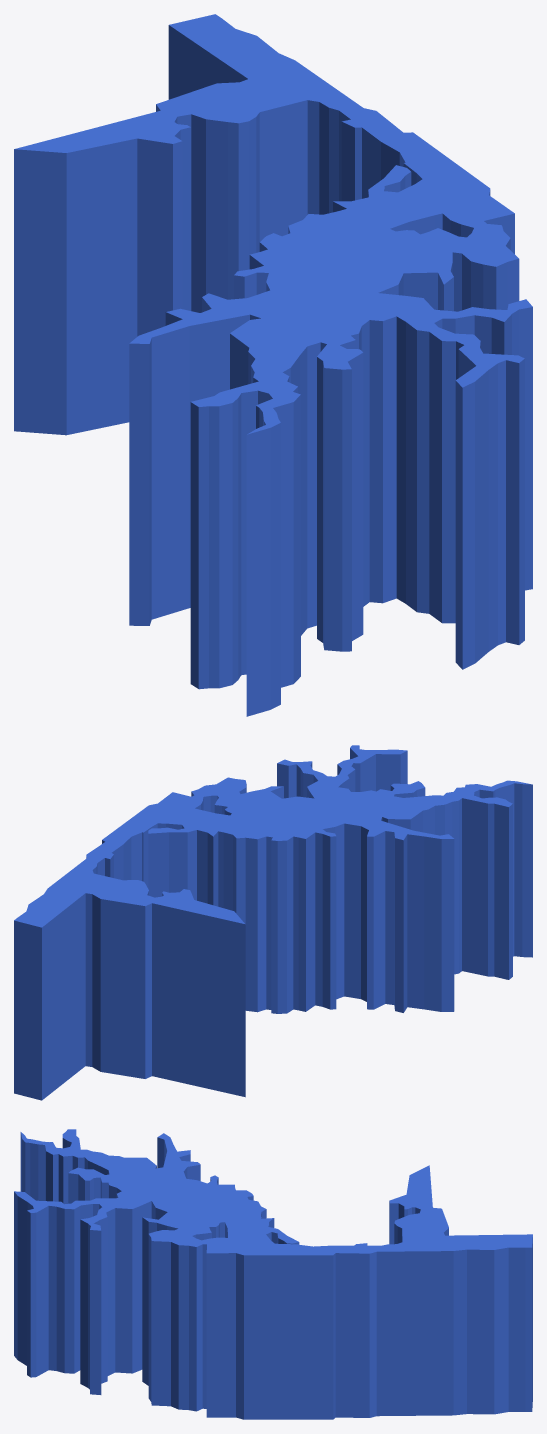
File: monmouth_river.glb
The picture shows the model from 3 angles, top to bottom: view 1: azimuth 30°, elevation 25°; view 2: azimuth 150°, elevation 25°; view 3: azimuth 270°, elevation 25°; orthographic projection. The views are drawn at different scales.
Visible parts, largest first — view 1: Plane.038; view 2: Plane.038; view 3: Plane.038.
Part boxes in pixels (<box>): Plane.038: <box>14,14,532,716</box>; Plane.038: <box>14,745,532,1100</box>; Plane.038: <box>14,1129,532,1419</box>.
Bounding box in the file's own units: 0.6345 × 0.3856 × 1.1.
